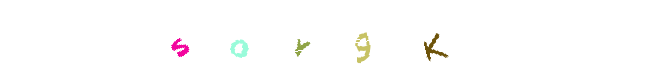G: (311, 0, 391, 80)
K: (392, 0, 472, 80)
O: (223, 0, 303, 80)
S: (140, 0, 220, 80)
V: (282, 0, 362, 80)
